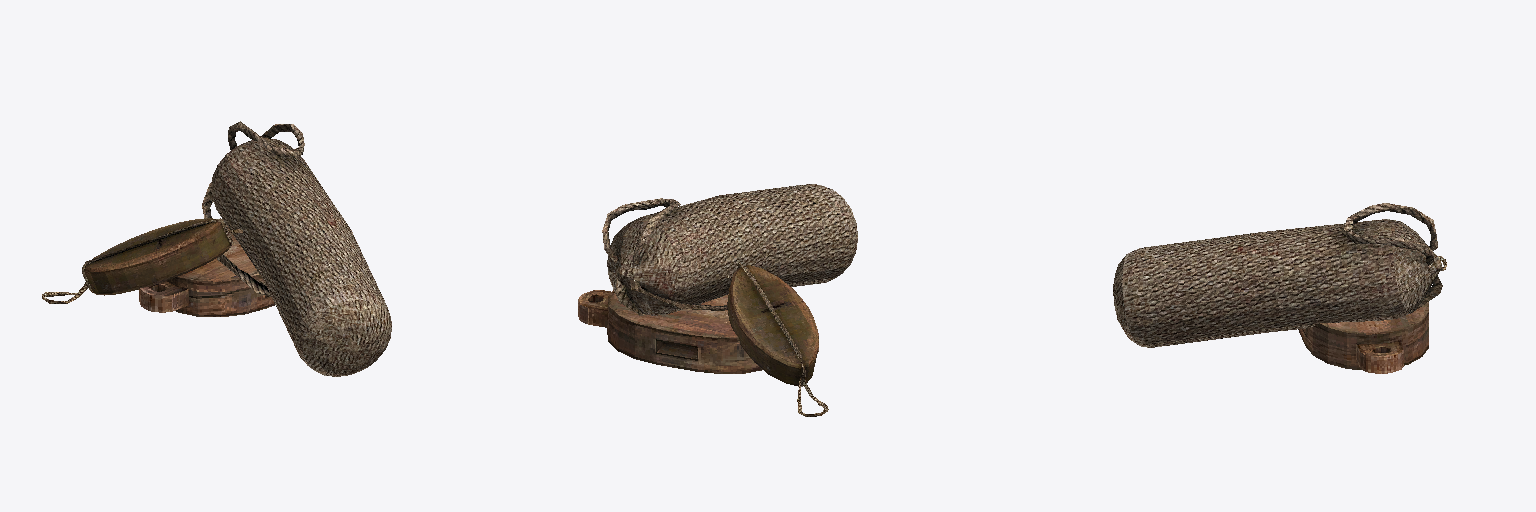
3 views of the same model, side by side, from view 1: azimuth 30°, elevation 25°; view 2: azimuth 150°, elevation 25°; view 3: azimuth 270°, elevation 25° (orthographic).
Parts seen in each view (by area): view 1: ship_rigging_pile_b; view 2: ship_rigging_pile_b; view 3: ship_rigging_pile_b.
Part boxes in pixels (x1,y1,x2,y2): ship_rigging_pile_b: (42,121,391,376); ship_rigging_pile_b: (578,184,857,416); ship_rigging_pile_b: (1113,203,1446,373).
Bounding box in the file's own units: 36.7 × 19.61 × 39.03.
1 materials, 1 textured.